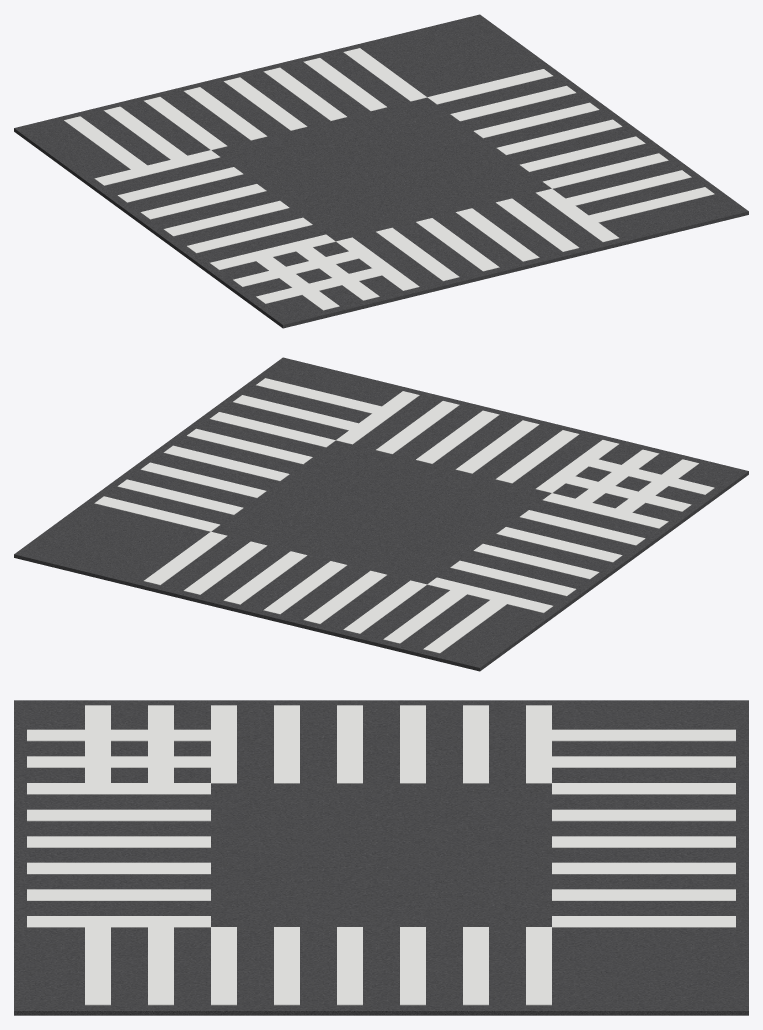
The model's file is road_crossing.glb.
The picture shows the model from 3 angles, top to bottom: view 1: azimuth 30°, elevation 25°; view 2: azimuth 150°, elevation 25°; view 3: azimuth 270°, elevation 25°; orthographic projection. The views are drawn at different scales.
Parts seen in each view (by area): view 1: road_crossing; view 2: road_crossing; view 3: road_crossing.
Part boxes in pixels (x1,y1,x2,y2): road_crossing: (14,14,748,328); road_crossing: (14,357,748,671); road_crossing: (14,700,748,1015).
Bounding box in the file's own units: 14 × 0.112 × 14.
2 materials, 1 textured.
